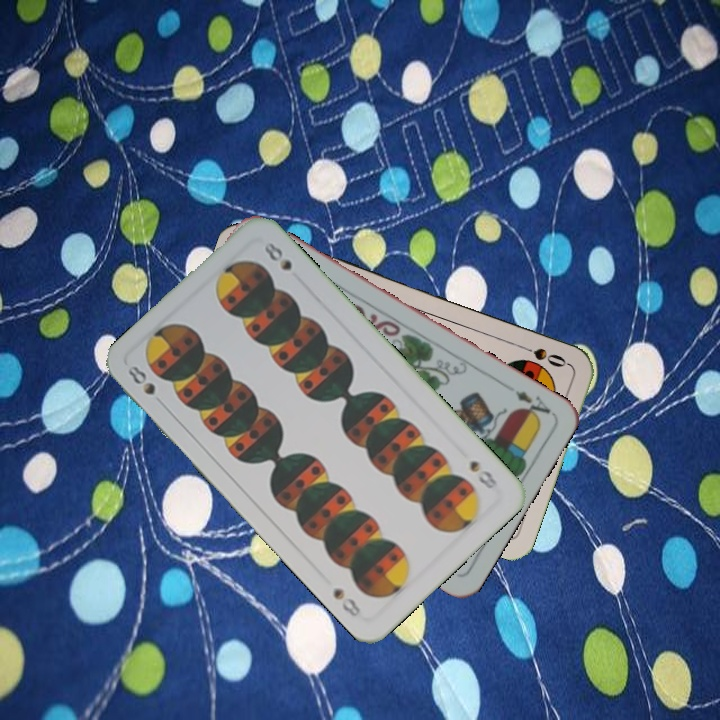EA: (511, 386, 554, 423)
S8: (465, 456, 501, 492), (124, 361, 158, 398)
SO: (514, 340, 571, 370)
